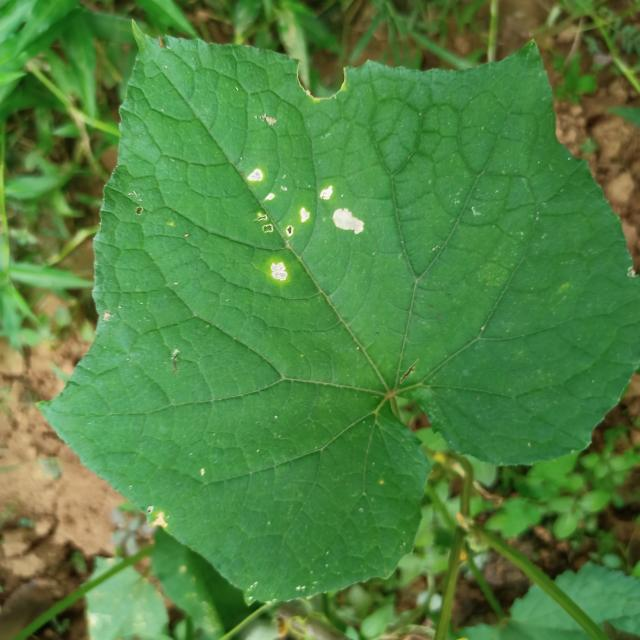disease_cucumber: (249, 170, 362, 282)
